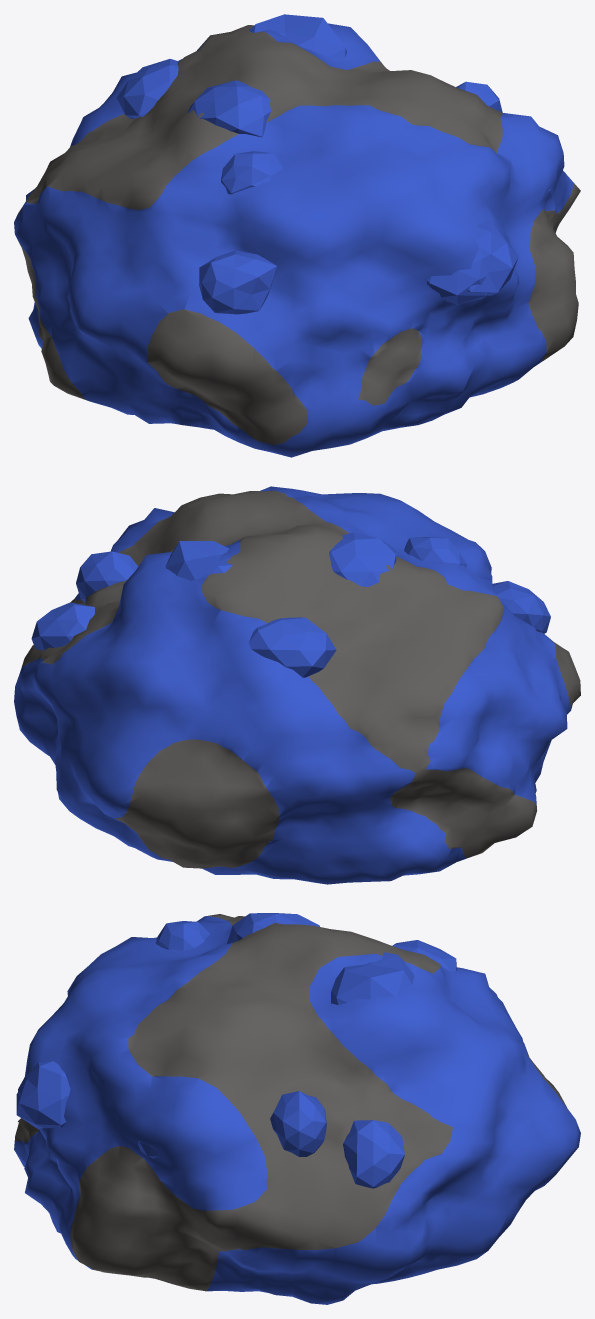
The model's file is lapis_deep.glb.
3 renders of one model, top to bottom at view 1: azimuth 30°, elevation 25°; view 2: azimuth 150°, elevation 25°; view 3: azimuth 270°, elevation 25°, orthographic. The views are drawn at different scales.
Parts seen in each view (by area): view 1: lapis_deep; view 2: lapis_deep; view 3: lapis_deep.
Boxes of the visible parts, left/top/right/bottom form: lapis_deep: left=14, top=14, right=580, bottom=457; lapis_deep: left=14, top=486, right=580, bottom=884; lapis_deep: left=14, top=913, right=580, bottom=1304.
Size of the model in its own units: 1.9 by 1.01 by 1.87.
